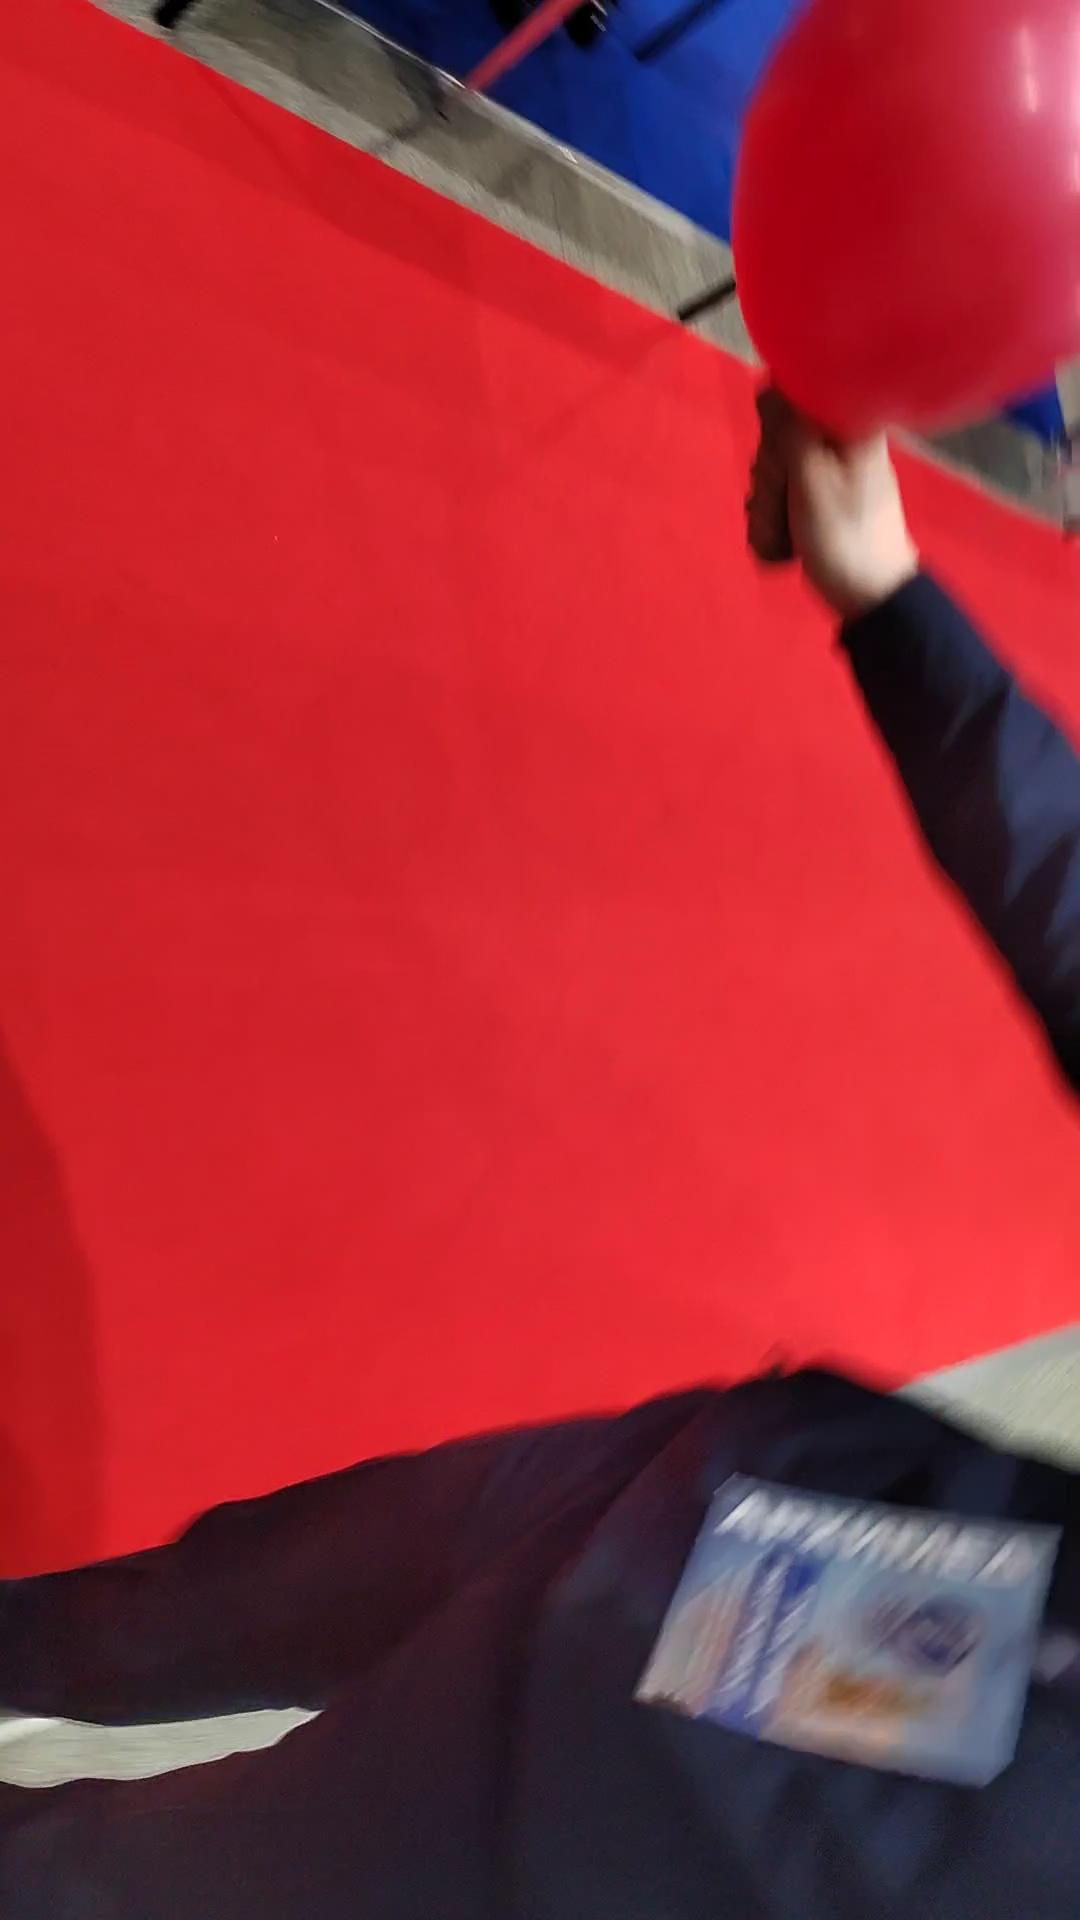red: (724, 0, 1080, 451)
